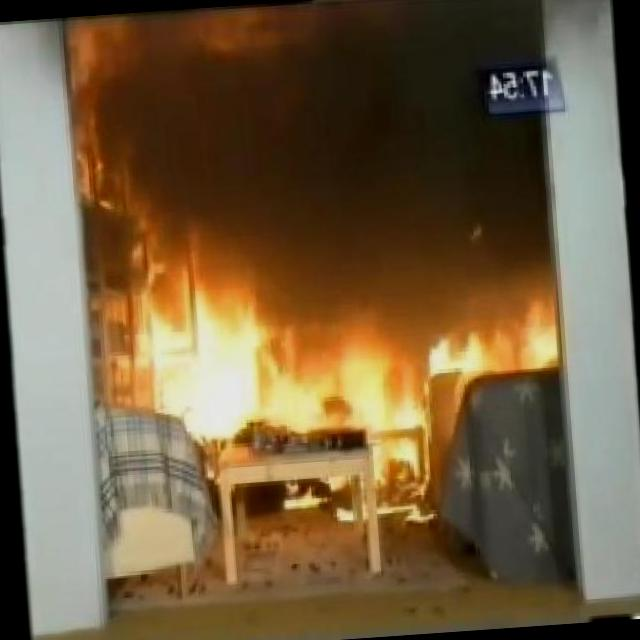fire: (122, 259, 542, 425)
smoke: (76, 0, 556, 305)
